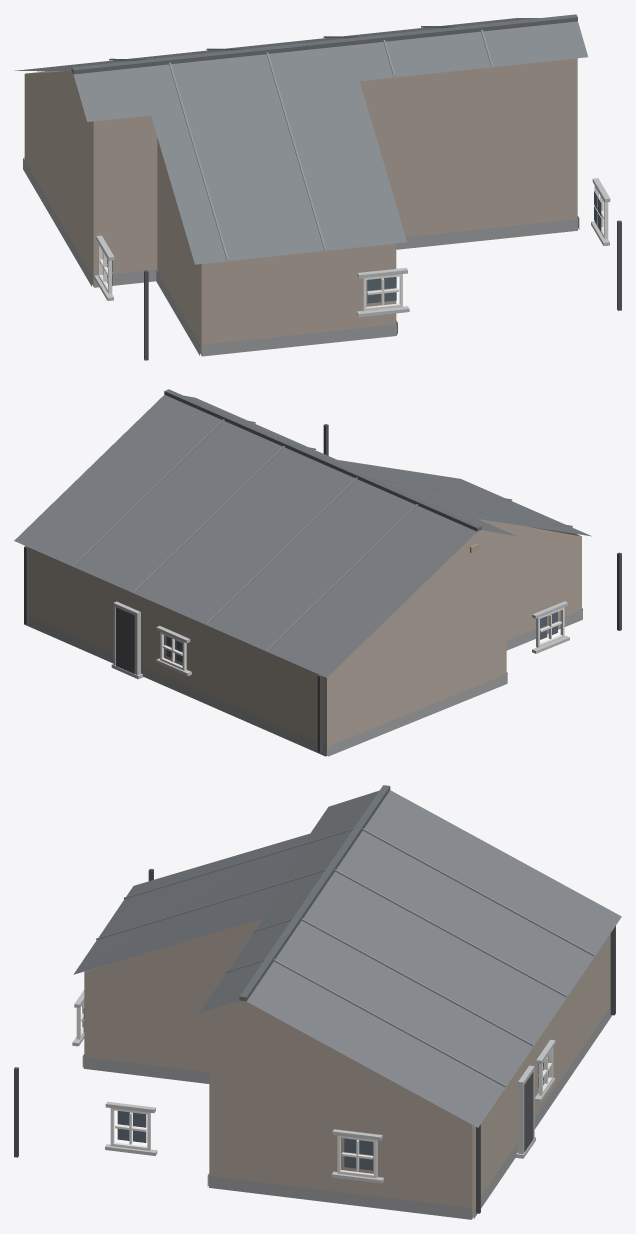
The picture shows the model from 3 angles, top to bottom: view 1: azimuth 30°, elevation 25°; view 2: azimuth 150°, elevation 25°; view 3: azimuth 270°, elevation 25°; orthographic projection. The views are drawn at different scales.
Parts seen in each view (by area): view 1: harl_brown, slate, plinth, slate_dk, slate_lt, frame, stone_band, pipe; view 2: slate, harl_brown, plinth, slate_lt, slate_dk, stone_band, pipe, door_dark, frame; view 3: slate, harl_brown, plinth, slate_lt, stone_band, slate_dk, frame, pipe, door_dark.
Part boxes in pixels (x1=…): harl_brown: x1=24, y1=58, x2=577, y2=355; slate: x1=14, y1=18, x2=587, y2=264; plinth: x1=23, y1=157, x2=579, y2=356; slate_dk: x1=71, y1=14, x2=577, y2=74; slate_lt: x1=109, y1=26, x2=492, y2=260; frame: x1=98, y1=186, x2=608, y2=311; stone_band: x1=94, y1=178, x2=610, y2=317; pipe: x1=144, y1=220, x2=621, y2=360; slate: x1=14, y1=395, x2=591, y2=677; harl_brown: x1=25, y1=519, x2=581, y2=755; plinth: x1=24, y1=608, x2=582, y2=756; slate_lt: x1=73, y1=418, x2=572, y2=651; slate_dk: x1=164, y1=389, x2=481, y2=531; stone_band: x1=111, y1=601, x2=569, y2=679; pipe: x1=24, y1=424, x2=621, y2=752; door_dark: x1=116, y1=607, x2=135, y2=673; frame: x1=160, y1=607, x2=564, y2=670; slate: x1=73, y1=790, x2=621, y2=1127; harl_brown: x1=84, y1=918, x2=610, y2=1218; plinth: x1=82, y1=1007, x2=612, y2=1219; slate_lt: x1=96, y1=828, x2=594, y2=1086; stone_band: x1=72, y1=990, x2=555, y2=1183; slate_dk: x1=239, y1=785, x2=390, y2=1001; frame: x1=76, y1=1002, x2=553, y2=1178; pipe: x1=14, y1=868, x2=615, y2=1213; door_dark: x1=524, y1=1072, x2=533, y2=1151.
Size of the model in its own units: 16.75 by 5.92 by 16.39.
